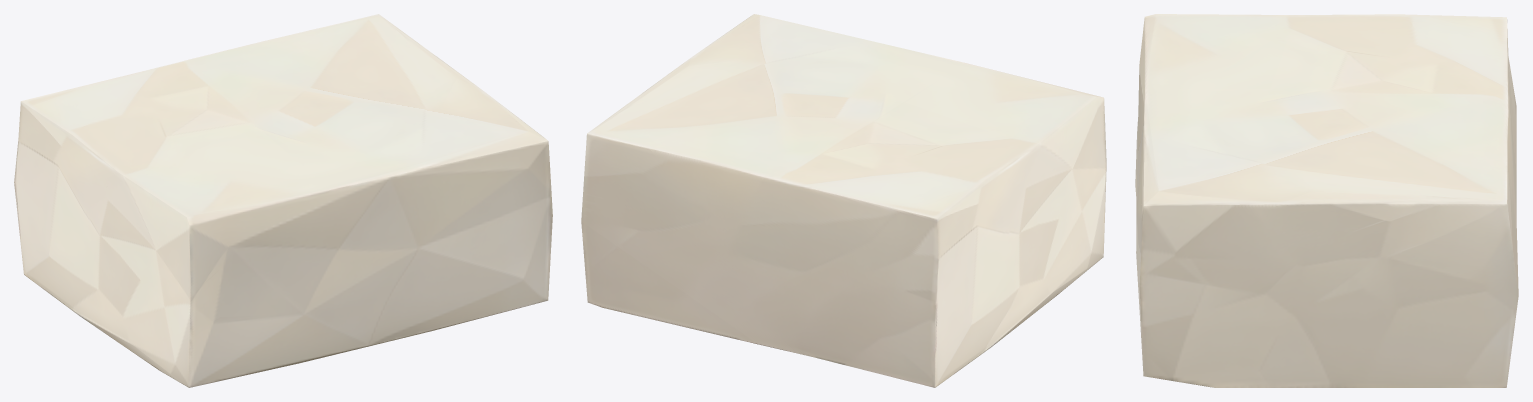
The model's file is base_basic_shaded.fbx.
3 views of the same model, side by side, from view 1: azimuth 30°, elevation 25°; view 2: azimuth 150°, elevation 25°; view 3: azimuth 270°, elevation 25° (orthographic). The views are drawn at different scales.
Visible parts, largest first — view 1: model; view 2: model; view 3: model.
Boxes of the visible parts, <box> form: model: <box>14,14,552,387</box>; model: <box>581,14,1106,387</box>; model: <box>1135,14,1518,387</box>.
Size of the model in its own units: 177 by 84.63 by 151.
